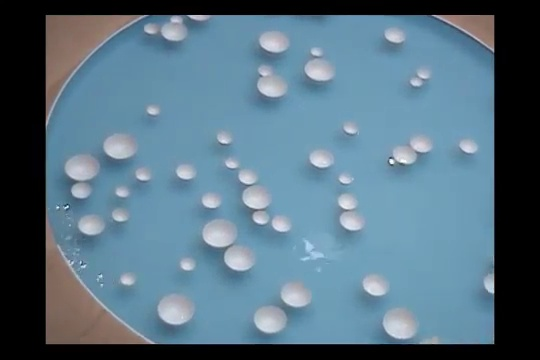bowl: (157, 293, 196, 326), (382, 306, 418, 339), (201, 217, 239, 247), (64, 153, 101, 182), (253, 304, 287, 335), (104, 133, 139, 161), (223, 244, 257, 272), (280, 281, 312, 310), (304, 57, 336, 84), (259, 29, 290, 56), (242, 185, 273, 210), (257, 75, 288, 99), (340, 209, 368, 232), (362, 274, 391, 296), (78, 214, 105, 236), (309, 149, 336, 171), (392, 145, 418, 165), (162, 21, 187, 41), (409, 135, 433, 155), (384, 26, 406, 45), (272, 215, 293, 234), (71, 182, 93, 200), (175, 163, 197, 181), (201, 190, 221, 209), (238, 167, 259, 185), (338, 193, 359, 210), (251, 209, 270, 227), (119, 270, 139, 287), (458, 138, 478, 155), (217, 129, 234, 146), (135, 166, 153, 182), (342, 121, 360, 137), (112, 208, 131, 222), (179, 257, 197, 271), (143, 22, 162, 35), (484, 271, 494, 295), (338, 173, 356, 186), (146, 103, 162, 117), (224, 155, 241, 168), (418, 67, 433, 81), (409, 76, 424, 90), (258, 65, 274, 77), (186, 14, 213, 21), (115, 186, 130, 198), (311, 46, 326, 57), (421, 336, 440, 343), (170, 14, 183, 24)
